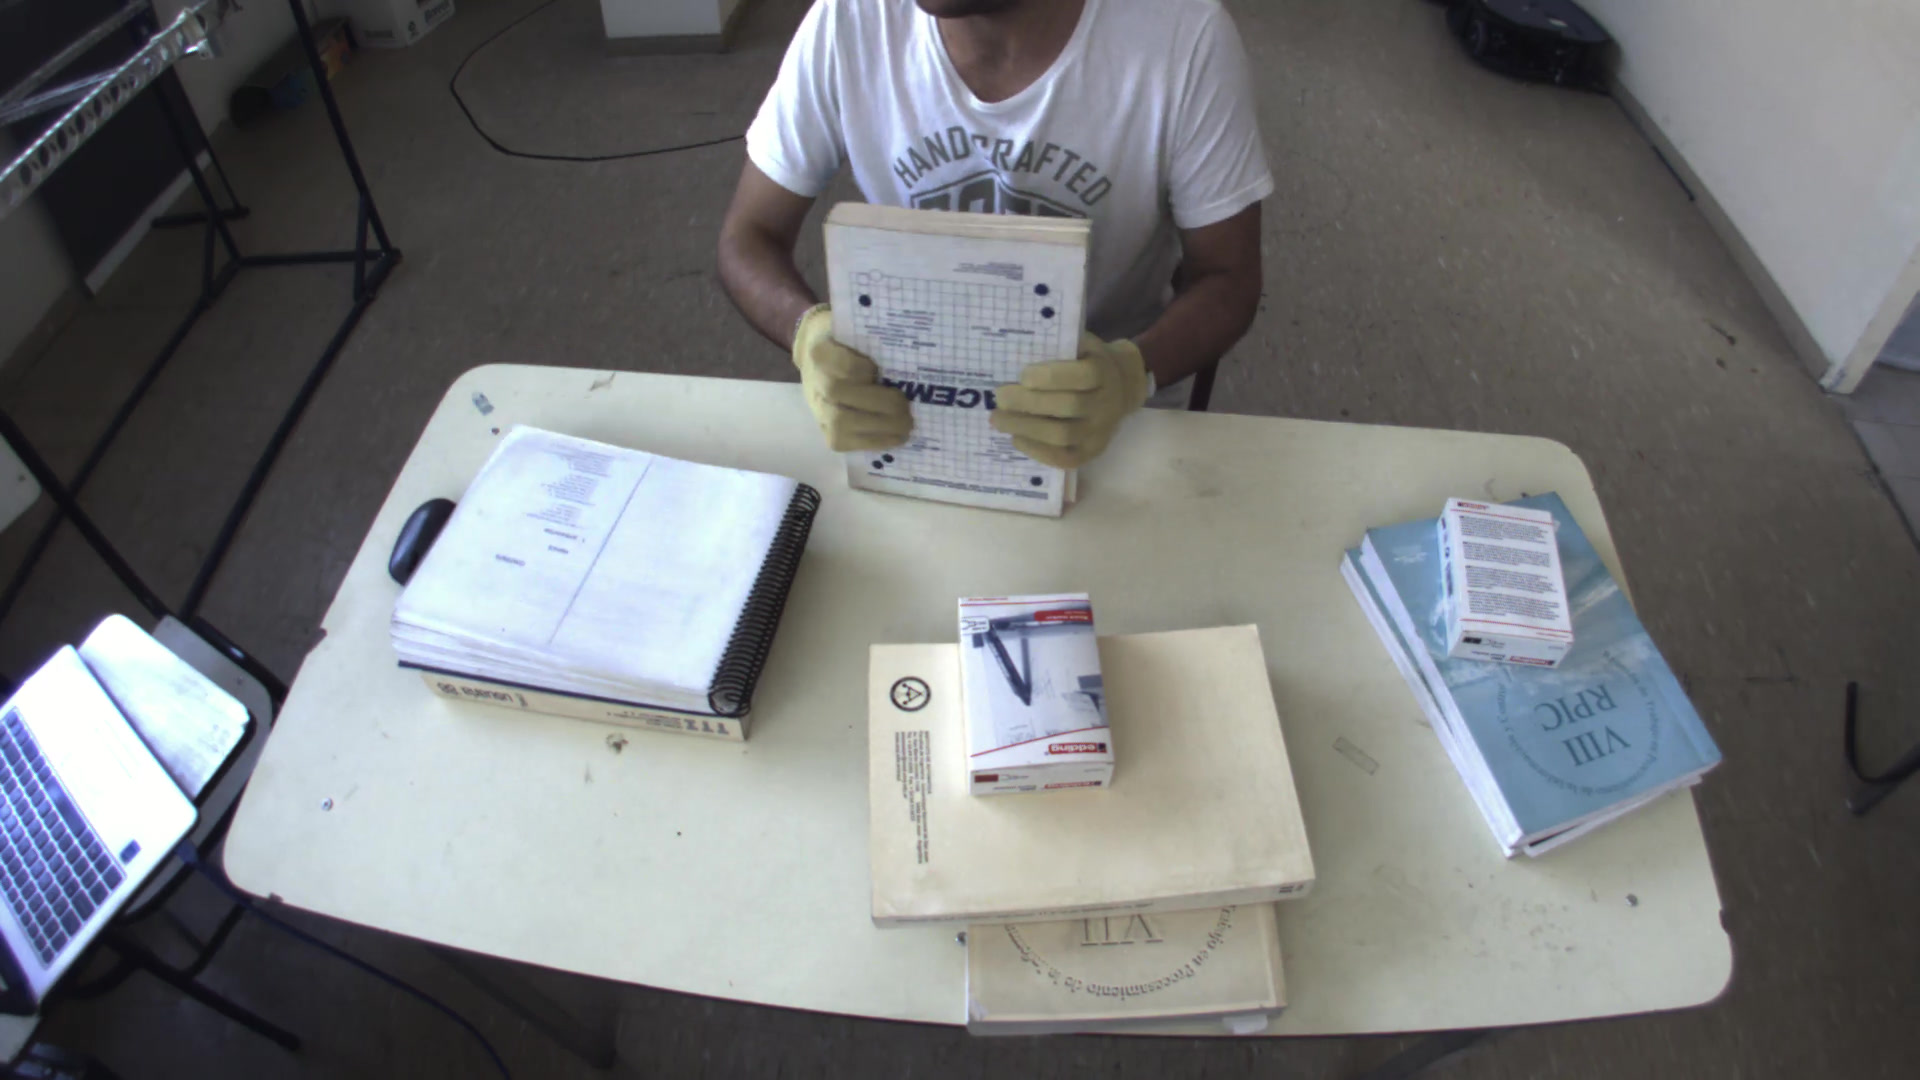hand: (990, 324, 1166, 471), (775, 306, 918, 463)
